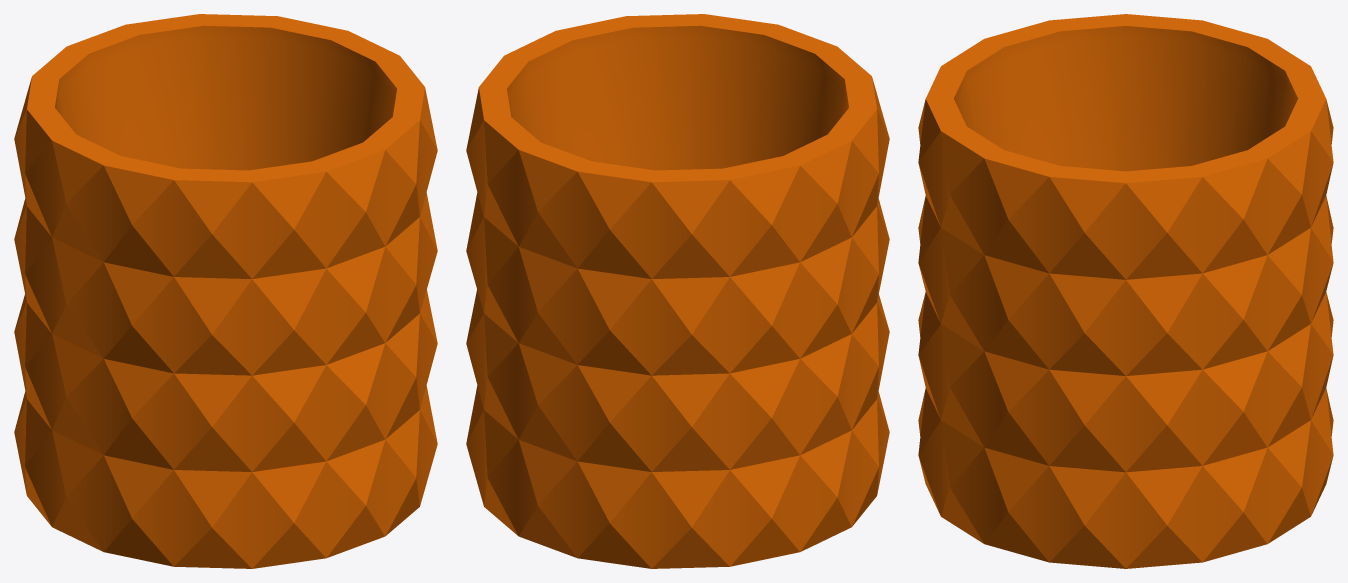
The model's file is VasoWiski.fbx.
The picture shows the model from 3 angles, left to right: view 1: azimuth 30°, elevation 25°; view 2: azimuth 150°, elevation 25°; view 3: azimuth 270°, elevation 25°; orthographic projection.
Parts seen in each view (by area): view 1: wiski; view 2: wiski; view 3: wiski.
Part boxes in pixels (bbox=[...]): wiski: bbox=[14, 14, 437, 568]; wiski: bbox=[466, 14, 889, 568]; wiski: bbox=[918, 14, 1333, 568].
Bounding box in the file's own units: 13.46 × 13.79 × 13.46.
